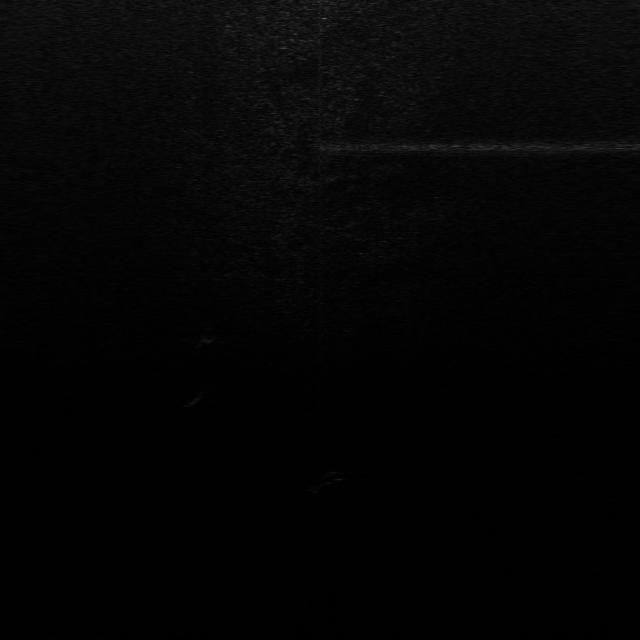ball: (197, 376, 224, 396)
circle cage: (197, 324, 224, 344)
tyre: (309, 470, 343, 493)
